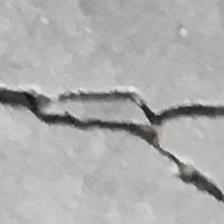Crack: (0, 50, 224, 205)
